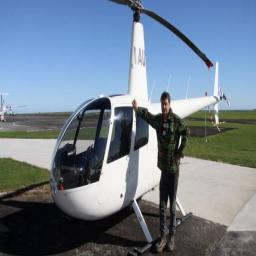helicopter: (49, 2, 231, 244)
